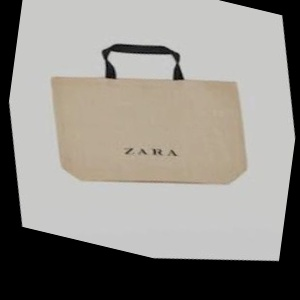zara: (131, 59, 254, 230)
